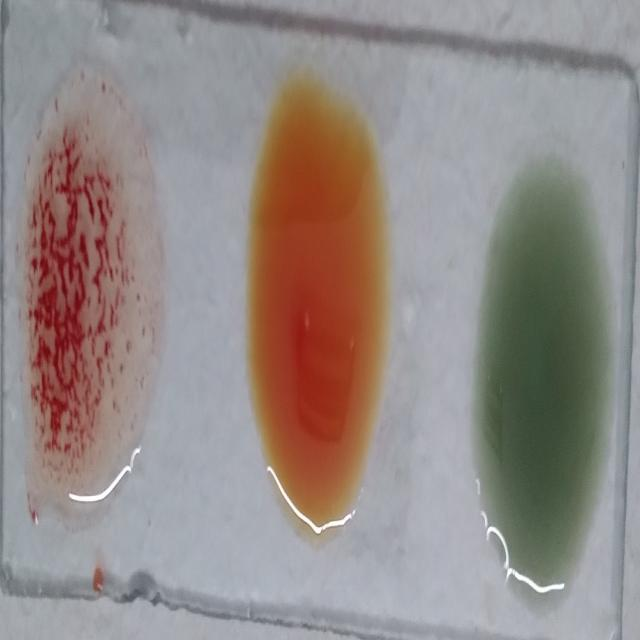D: (22, 59, 159, 548)
